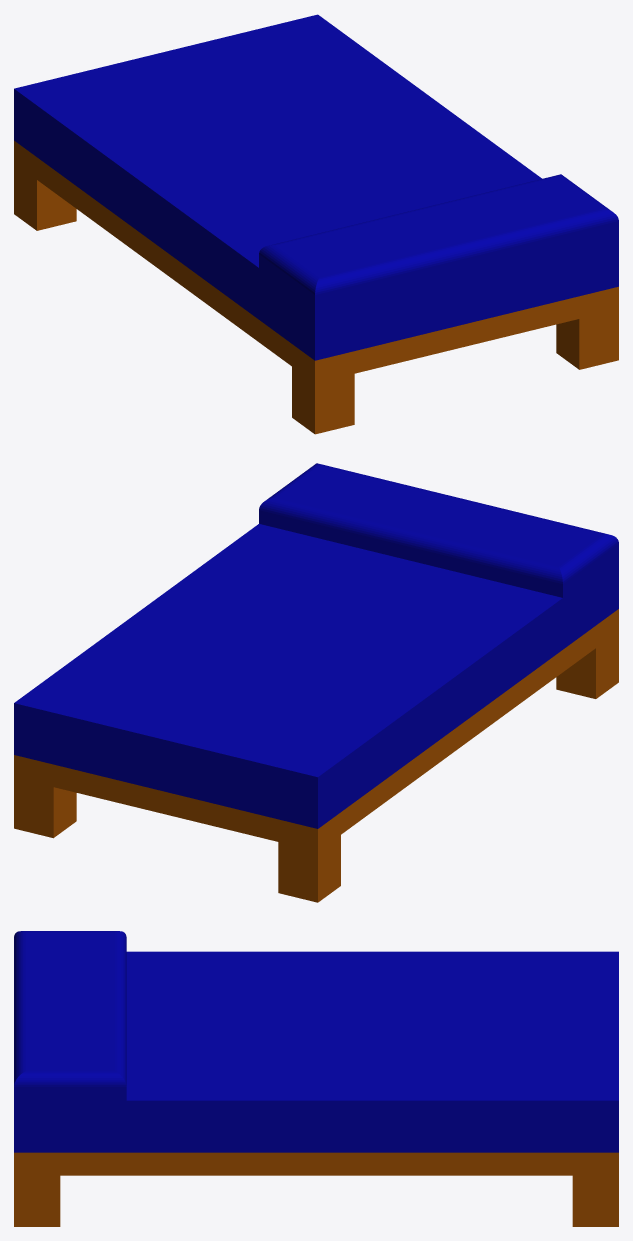
File: Bed.fbx
3 renders of one model, top to bottom at view 1: azimuth 30°, elevation 25°; view 2: azimuth 150°, elevation 25°; view 3: azimuth 270°, elevation 25°, orthographic.
Parts seen in each view (by area): view 1: Cube; view 2: Cube; view 3: Cube.
Part boxes in pixels (x1,y1,x2,y2): Cube: (14, 14, 618, 434); Cube: (14, 463, 618, 902); Cube: (14, 931, 618, 1226).
Size of the model in its own units: 200 by 343 by 94.18.
